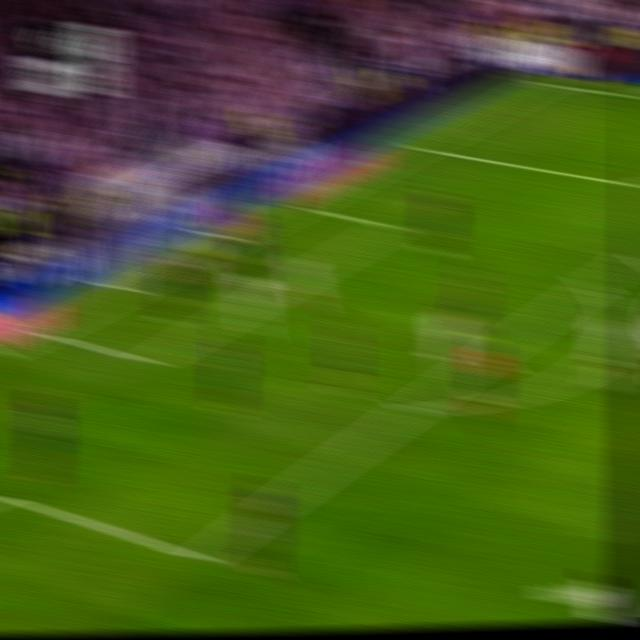bigarea_bottom_inner: (185, 537, 218, 578)
bigarea_bottom_outter: (31, 323, 58, 341)
bigarea_top_outter: (407, 136, 433, 155)
bottom_arc_area_intersection: (399, 391, 431, 423)
corner: (530, 77, 557, 90)
smallarea_top_inner: (377, 214, 407, 239)
top_arc_area_intersection: (579, 271, 609, 296)
